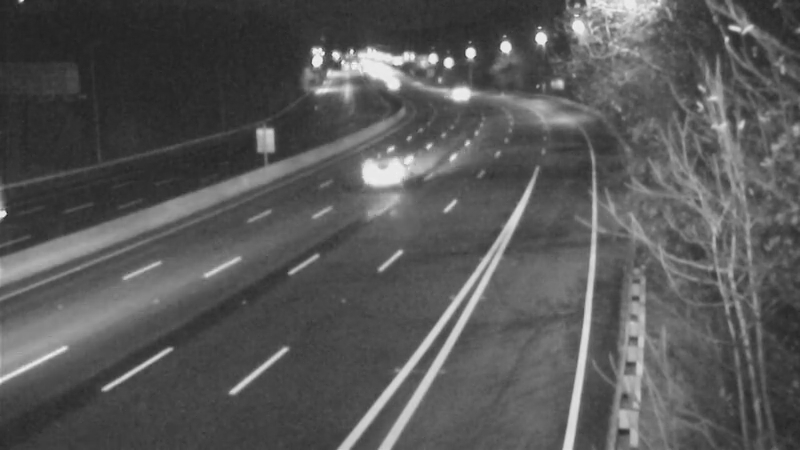vehicle: (342, 132, 422, 212), (1, 173, 63, 253), (432, 70, 482, 120)
